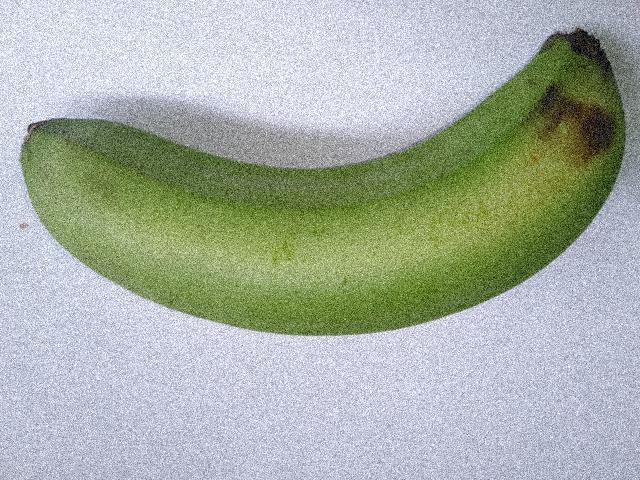freshunripe: (9, 16, 639, 351)
